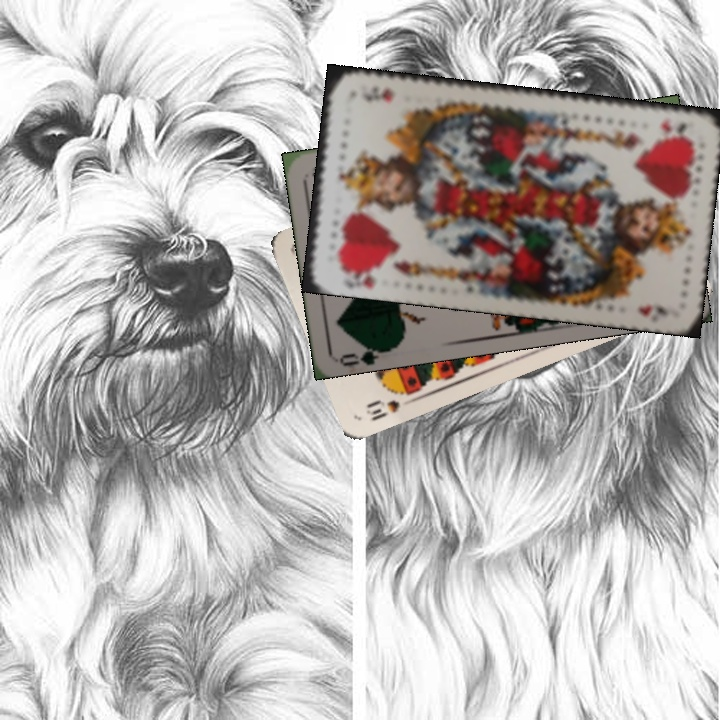GO: (337, 337, 396, 367)
HK: (656, 116, 696, 141), (352, 264, 383, 291)
S10: (362, 394, 418, 424)
